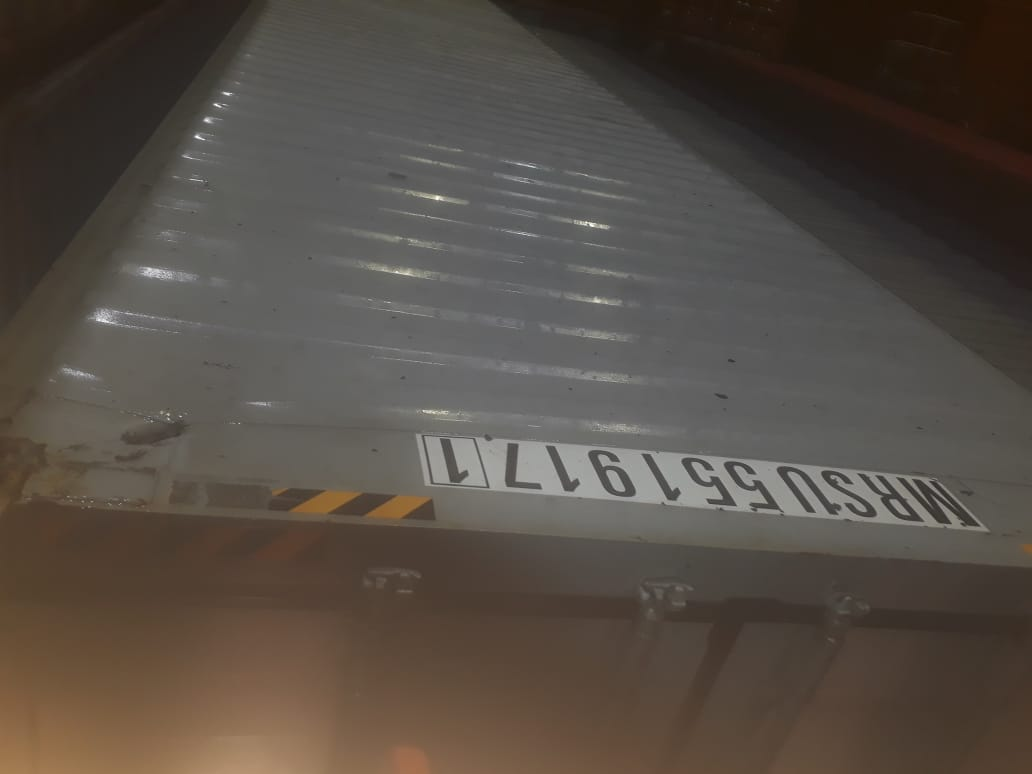severe: (77, 410, 218, 469)
